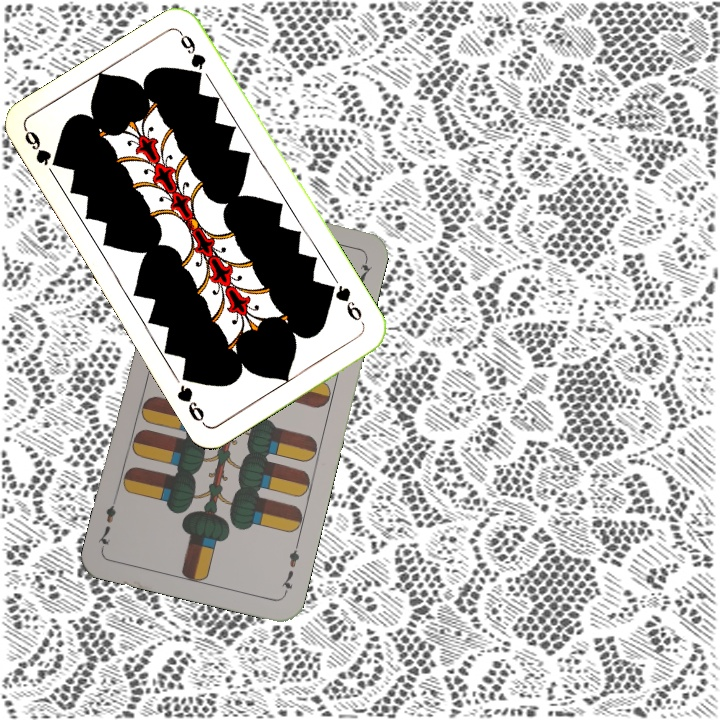E7: (277, 539, 302, 597)
G9: (323, 280, 368, 328), (20, 126, 62, 170)
